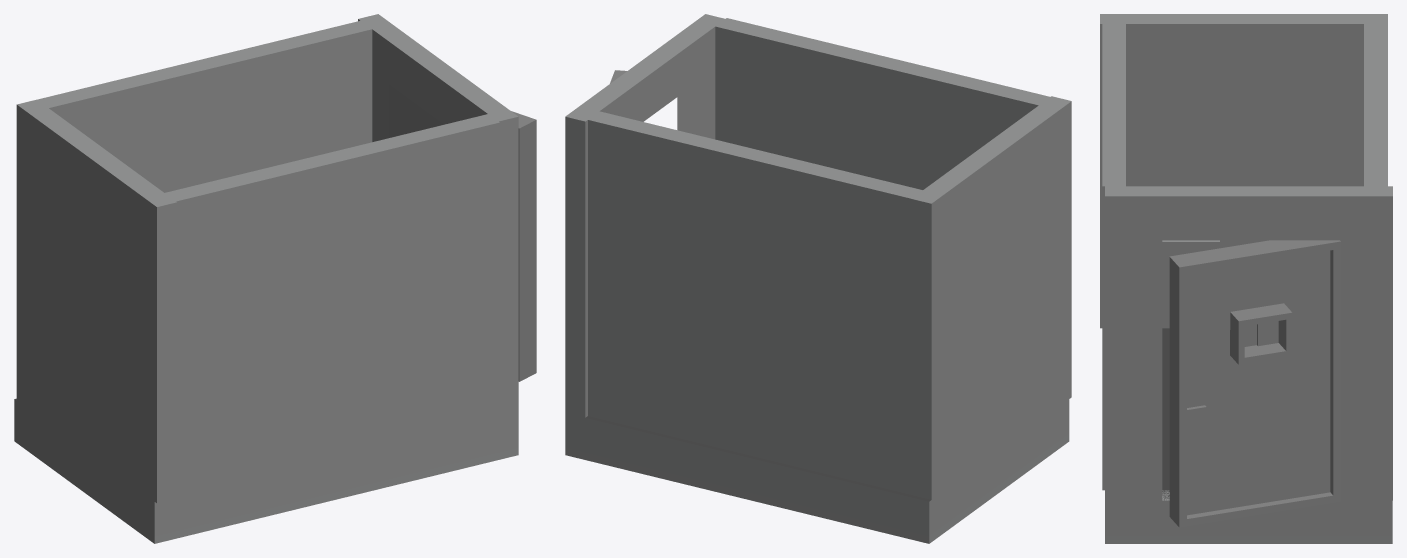
Rendered from SEMI OPEN CELL.fbx.
The picture shows the model from 3 angles, left to right: view 1: azimuth 30°, elevation 25°; view 2: azimuth 150°, elevation 25°; view 3: azimuth 270°, elevation 25°; orthographic projection. The views are drawn at different scales.
Parts seen in each view (by area): view 1: BLOC semi open; view 2: BLOC semi open; view 3: BLOC semi open.
Part boxes in pixels (x1=…): BLOC semi open: x1=14, y1=14, x2=536, y2=543; BLOC semi open: x1=565, y1=14, x2=1071, y2=543; BLOC semi open: x1=1100, y1=14, x2=1392, y2=543.
Bounding box in the file's own units: 3.05 × 5.17 × 4.
